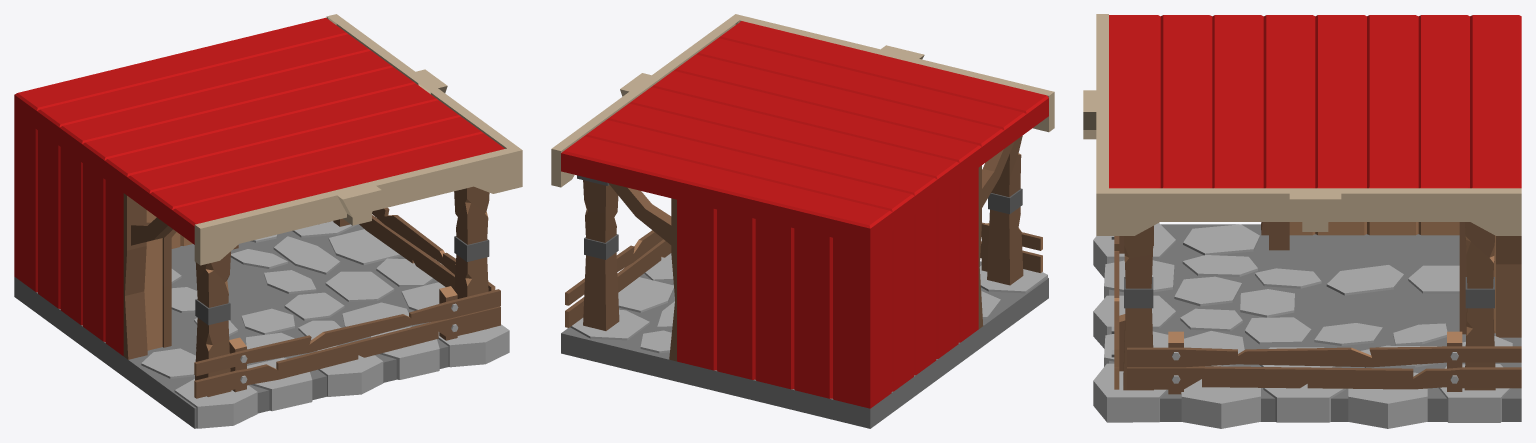
The model's file is Farm_Level_01_Corner.fbx.
3 renders of one model, left to right at view 1: azimuth 30°, elevation 25°; view 2: azimuth 150°, elevation 25°; view 3: azimuth 270°, elevation 25°, orthographic. The views are drawn at different scales.
Parts seen in each view (by area): view 1: Farm_Level_01_Corner; view 2: Farm_Level_01_Corner; view 3: Farm_Level_01_Corner.
Boxes of the visible parts, x1=… form: Farm_Level_01_Corner: x1=14, y1=14, x2=522, y2=428; Farm_Level_01_Corner: x1=551, y1=14, x2=1054, y2=428; Farm_Level_01_Corner: x1=1083, y1=14, x2=1521, y2=428.
Size of the model in its own units: 850 by 500 by 850.
